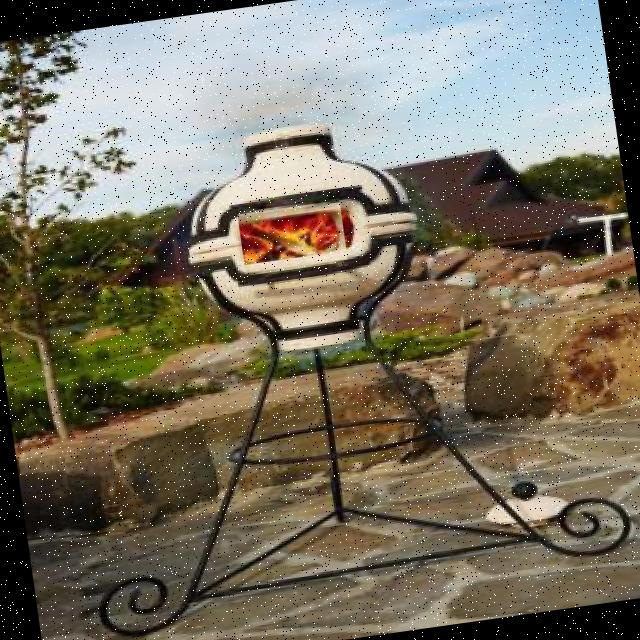fire: (237, 198, 348, 274)
